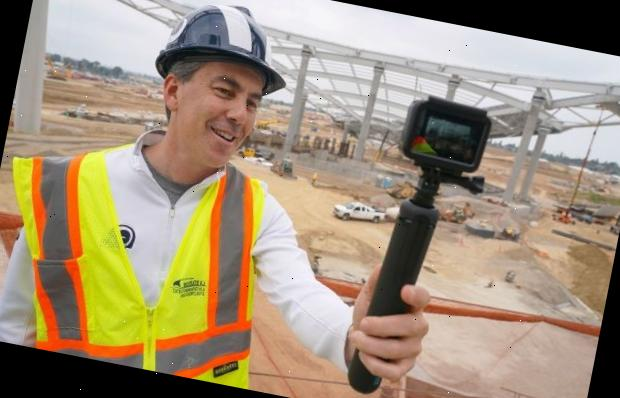helmet: (154, 0, 303, 100)
wear: (0, 134, 286, 389)
